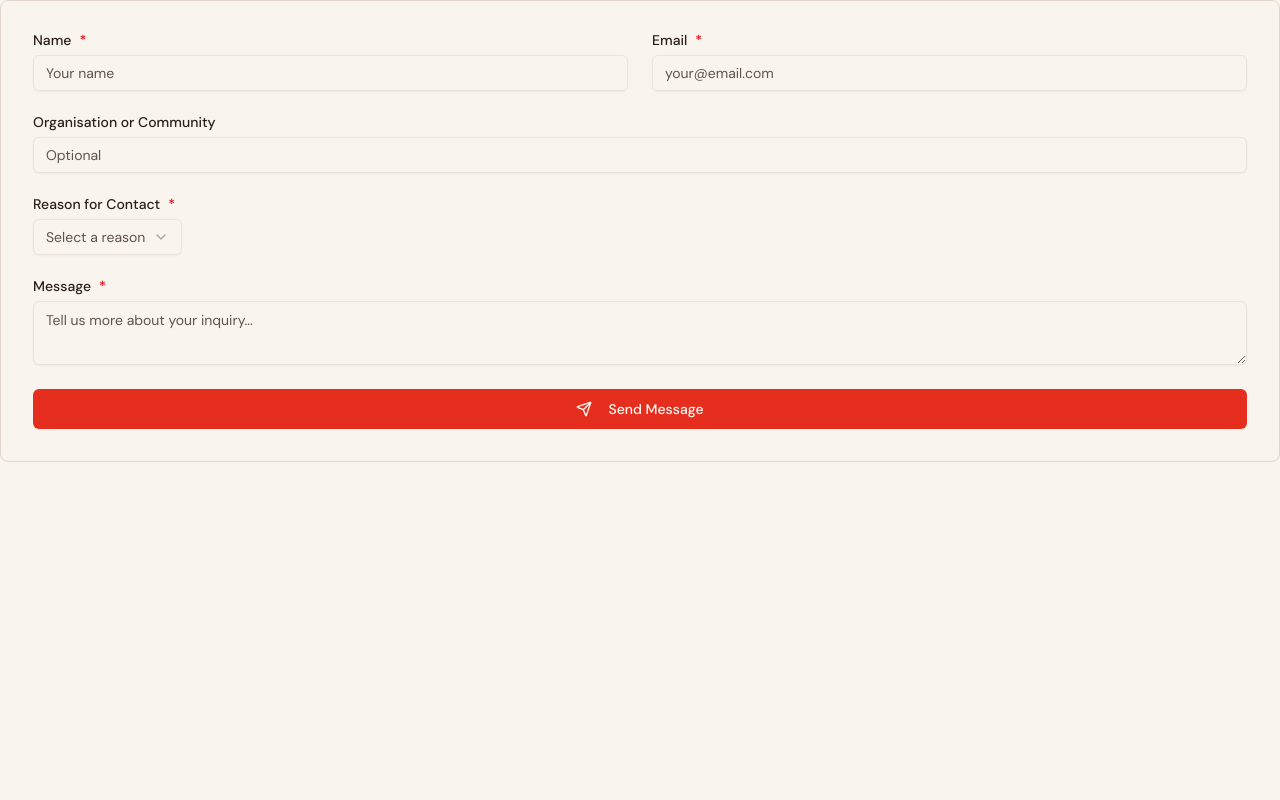
Test case: ContactForm › keeps message counters hidden until validation fails
The width and height of the screenshot is (1280, 800).
Expected: the text "/ 100 characters" is not shown
Expected: the text "/ 20 words" is not shown
Type "Jane Doe" into the field labelled "Name *".
click(330, 73); type("Jane Doe")  # box [33,55,628,91]
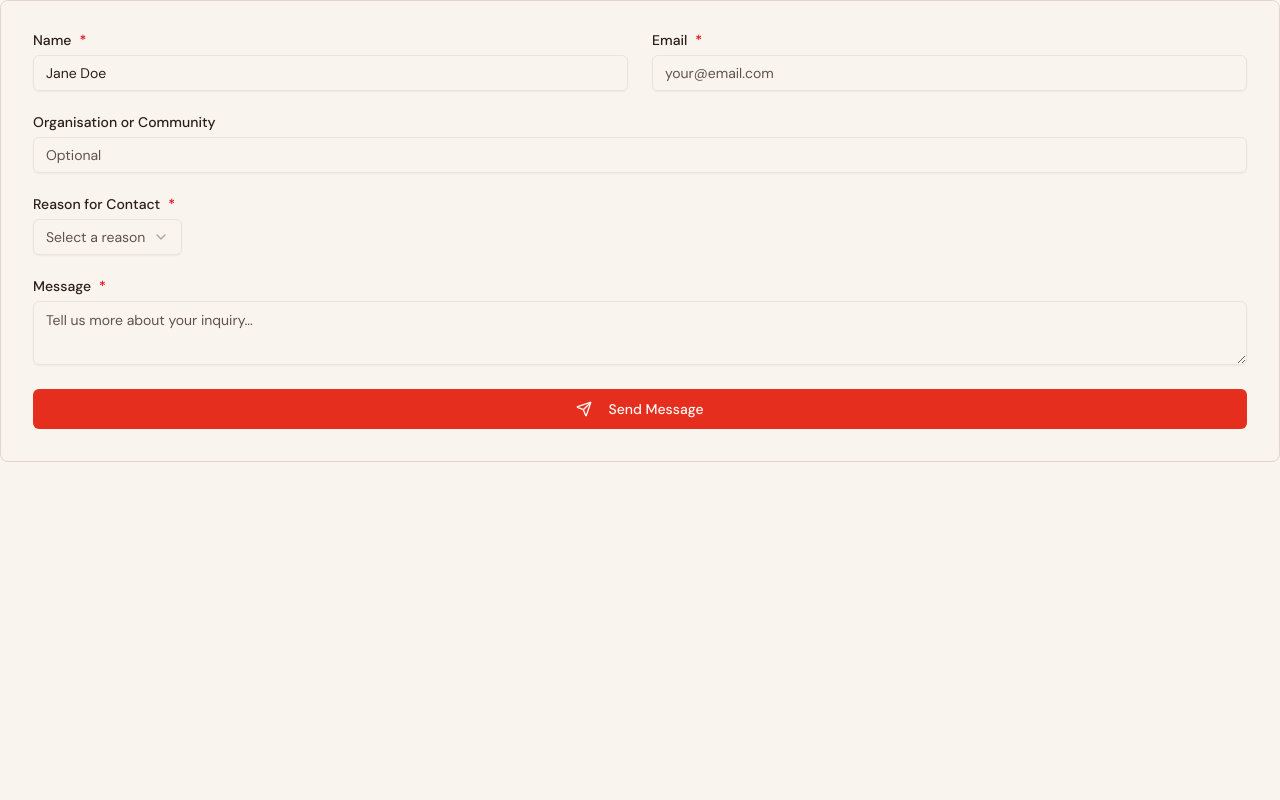
Type "jane@example.com" into the field labelled "Email *".
click(950, 73); type("jane@example.com")  # box [652,55,1247,91]
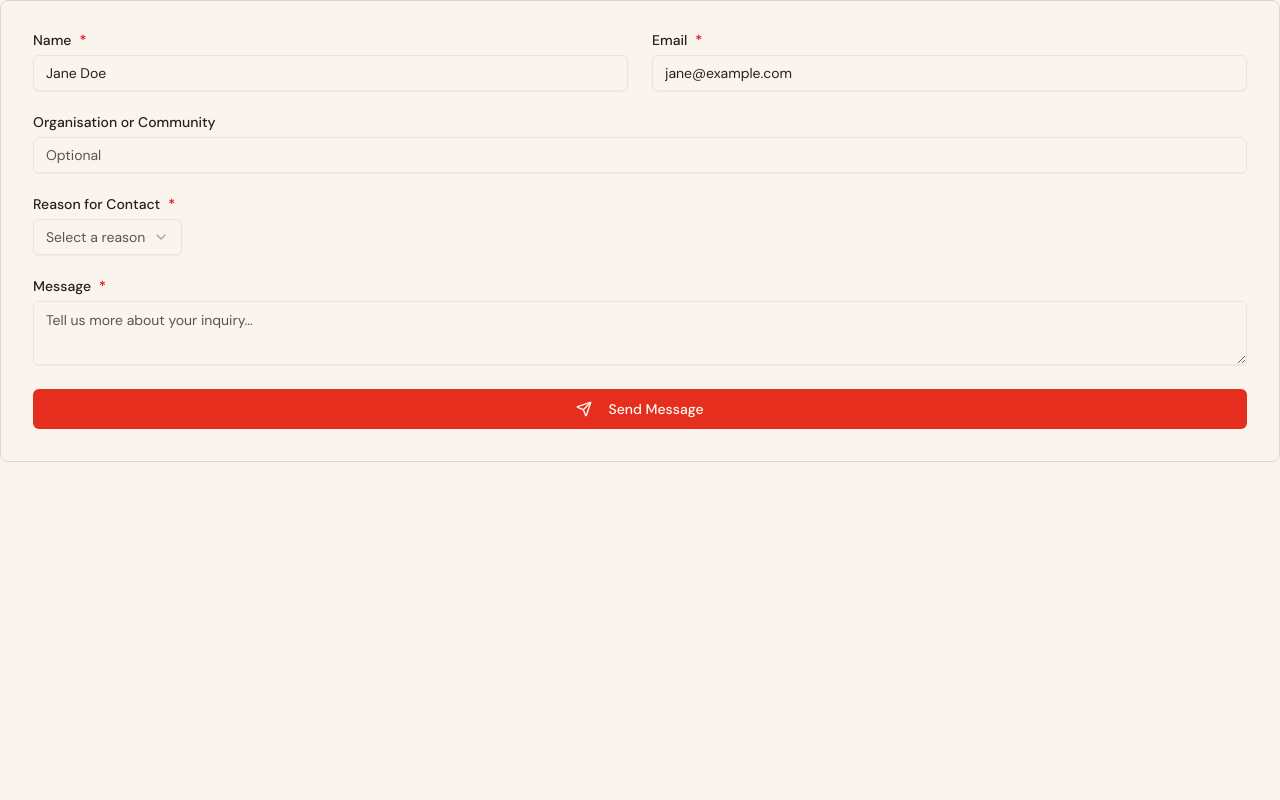
Click the dropdown named "reason for contact".
click(108, 237)  # box [33,219,182,255]
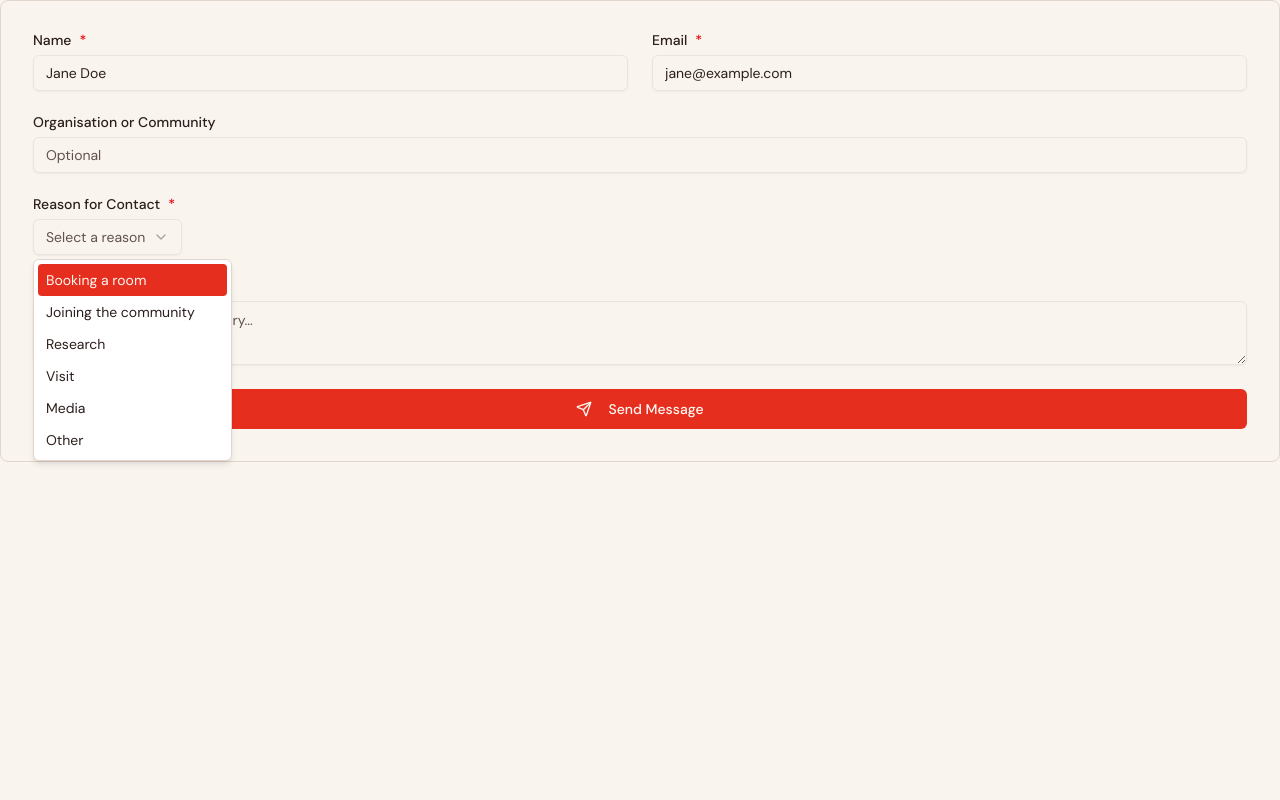
Click the option "Visit".
click(60, 376)  # box [46,367,75,385]
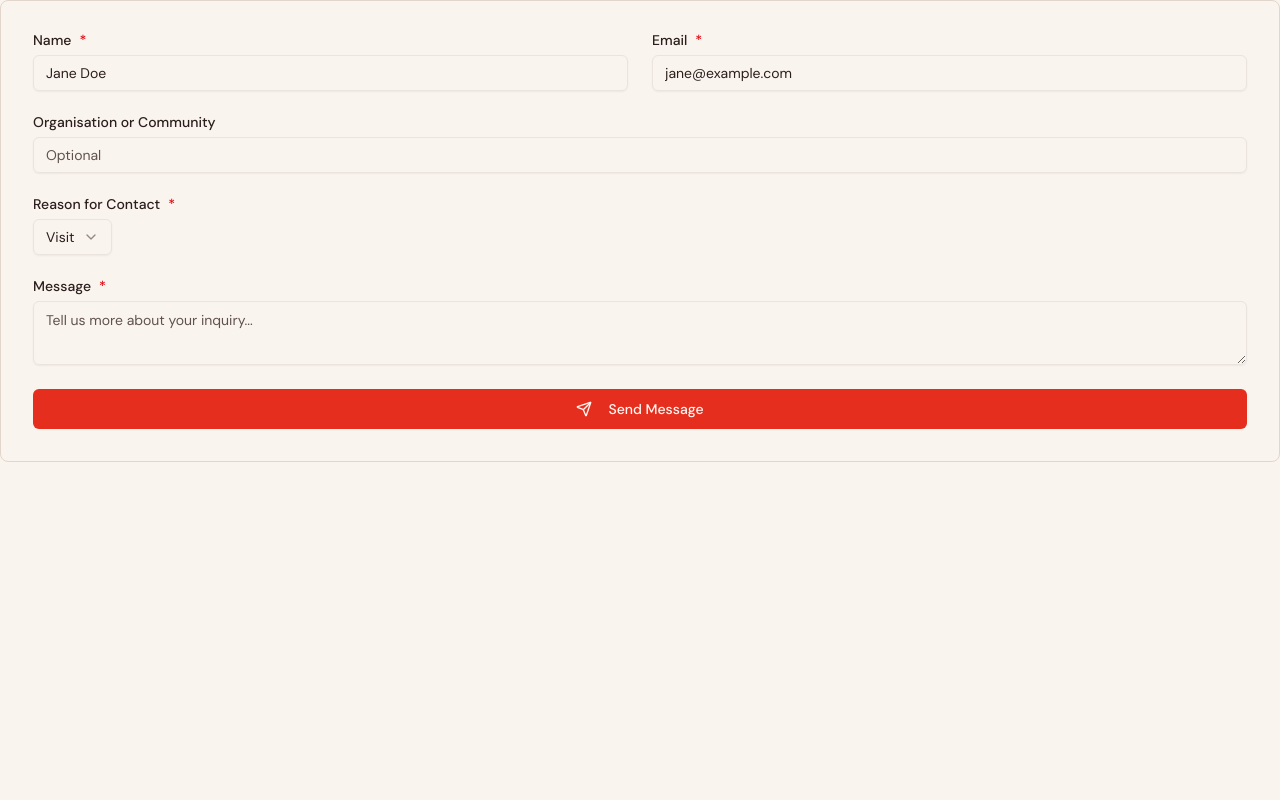
Type "Too short to pass." into the text box labelled "Message *".
click(640, 333); type("Too short to pass.")  # box [33,301,1247,365]
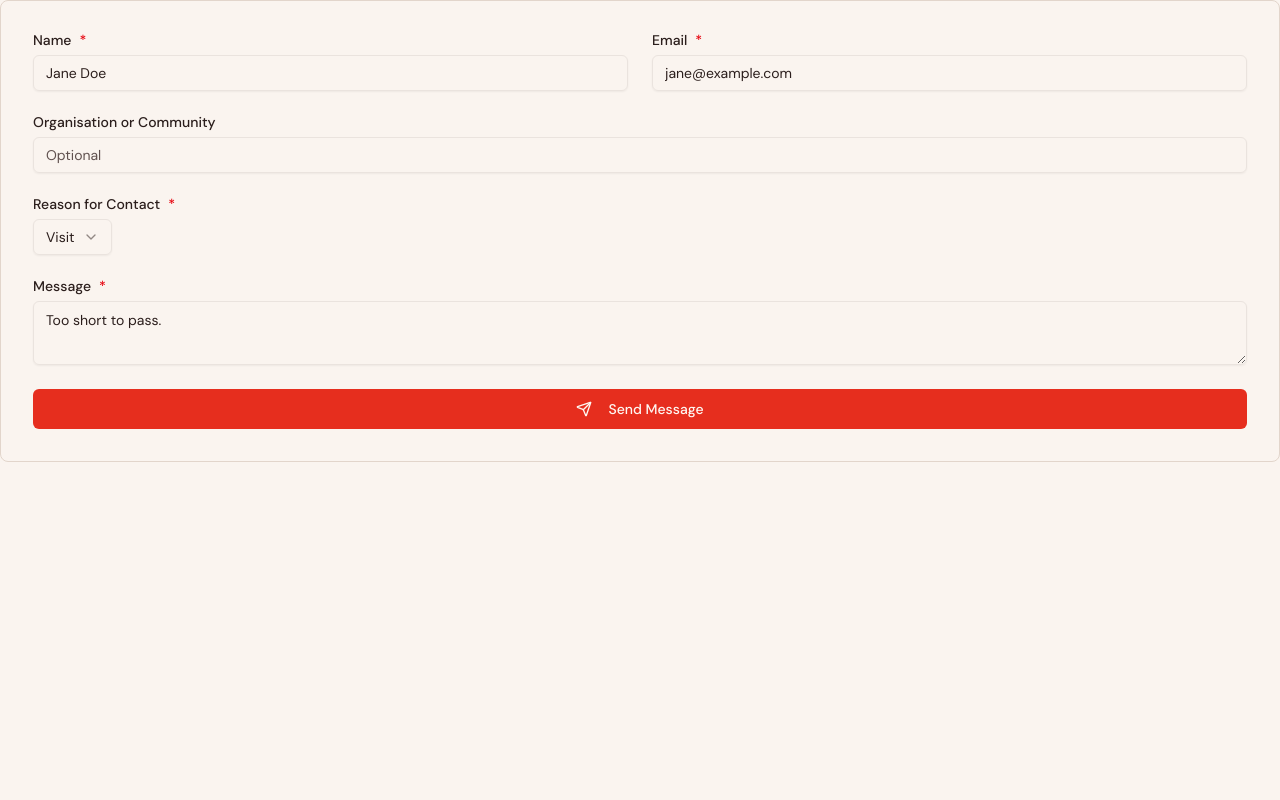
Click the button "Send Message".
click(640, 409)  # box [33,389,1247,429]
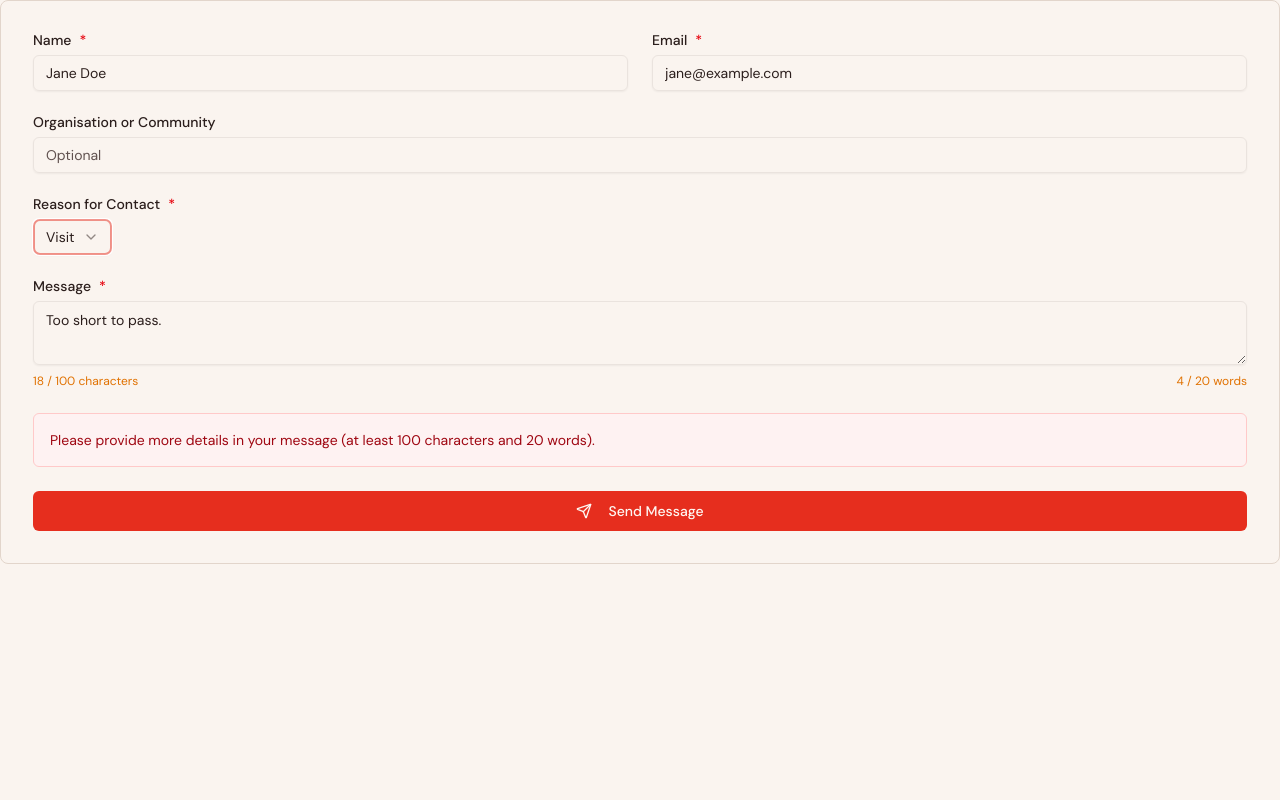
Expected: the message shows "Please provide more details in your message", [50,431,595,449]
Expected: the text "18 / 100 characters" is shown, [33,373,138,389]
Expected: the text "4 / 20 words" is shown, [1177,373,1247,389]
